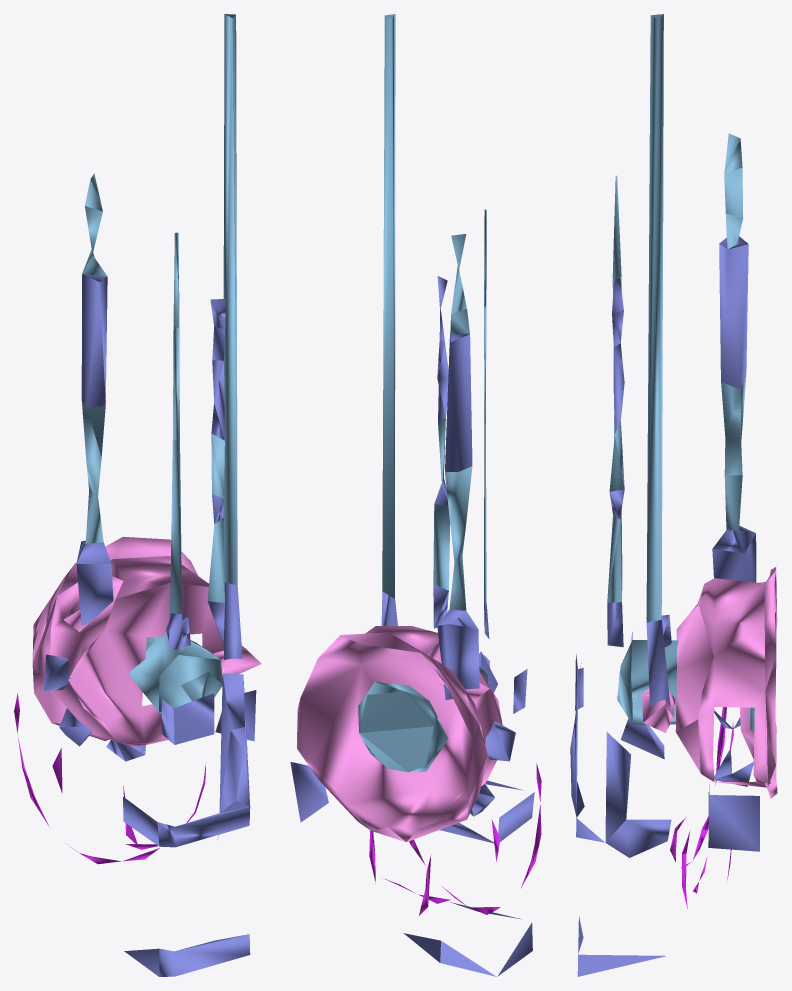
Rendered from antenna_b_lod3.glb.
3 views of the same model, side by side, from view 1: azimuth 30°, elevation 25°; view 2: azimuth 150°, elevation 25°; view 3: azimuth 270°, elevation 25° (orthographic). The views are drawn at different scales.
Size of the model in its own units: 8.42 by 31.61 by 6.09.
